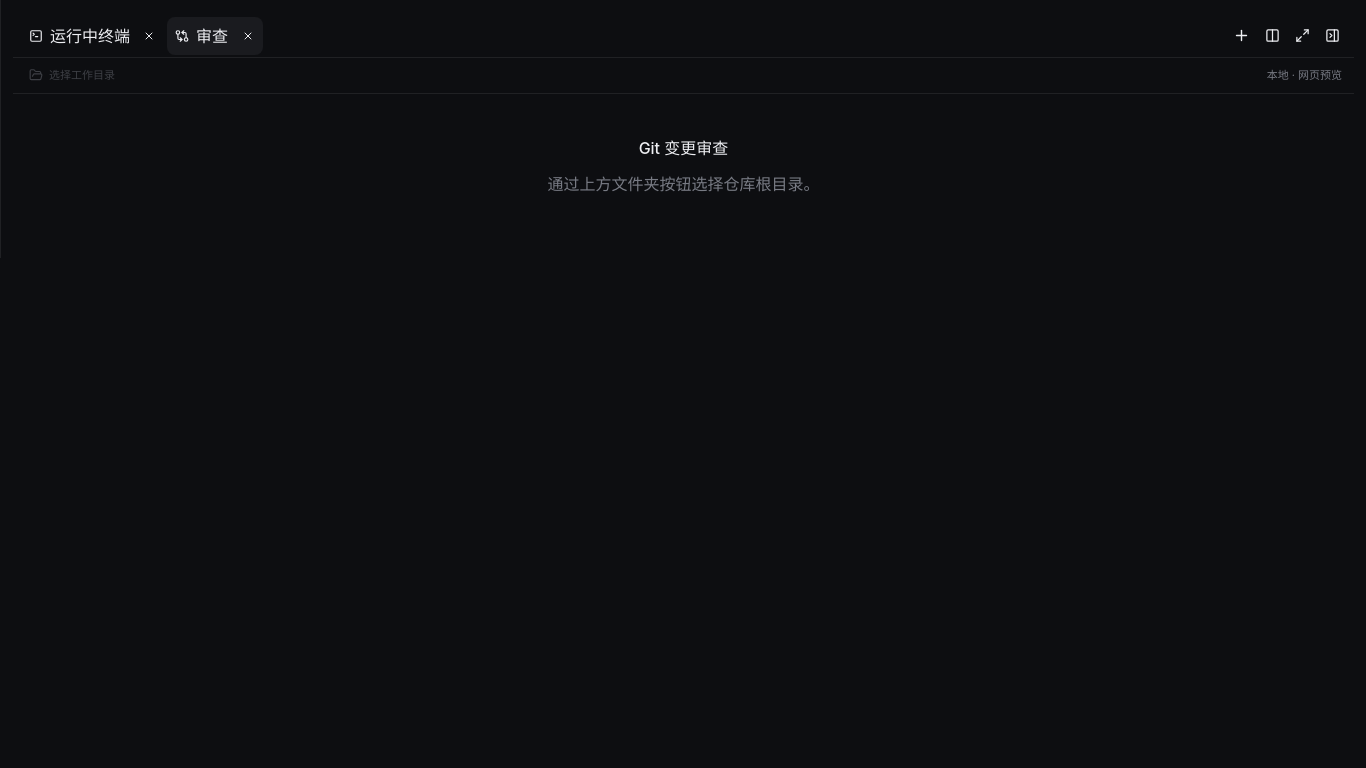
Test case: Agent right workspace › requires confirmation to stop a terminal and keeps the tab on native failure
Click the button named "关闭 运行中终端".
click(149, 36)  # box [138, 24, 160, 46]
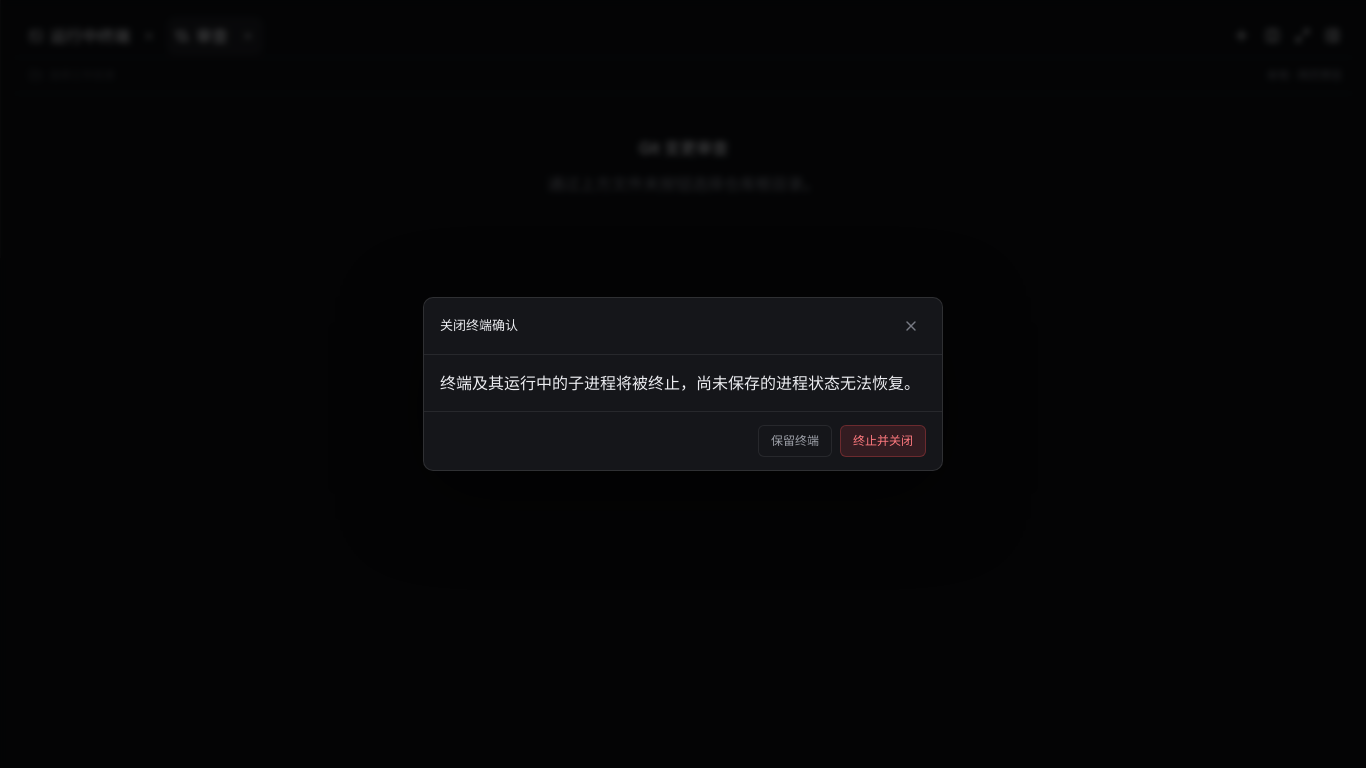
Expected: the dialog shows "关闭终端确认", [440, 317, 518, 333]
Click the button "终止并关闭".
click(883, 441)  # box [840, 425, 926, 457]
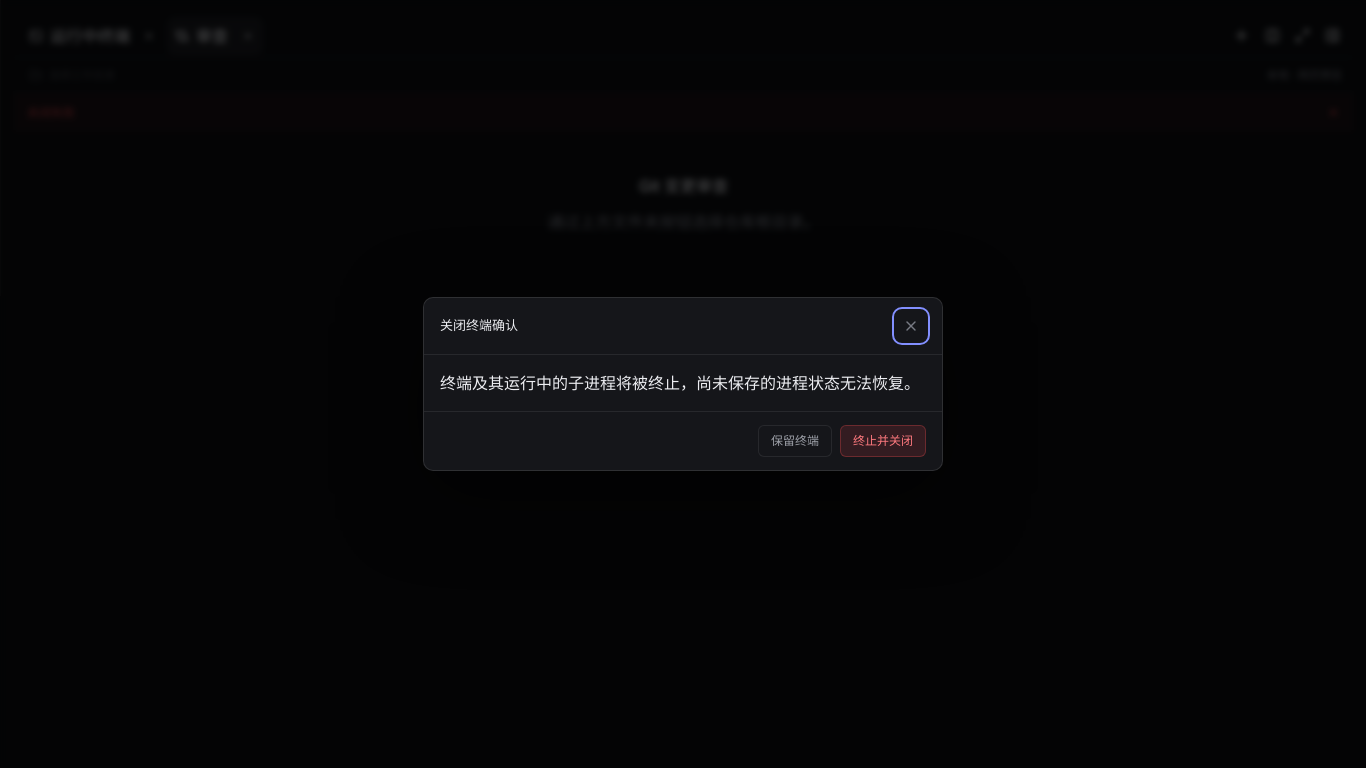
Expected: the tab "运行中终端" is shown, [21, 16, 138, 54]
Click the button "终止并关闭".
click(883, 441)  # box [840, 425, 926, 457]
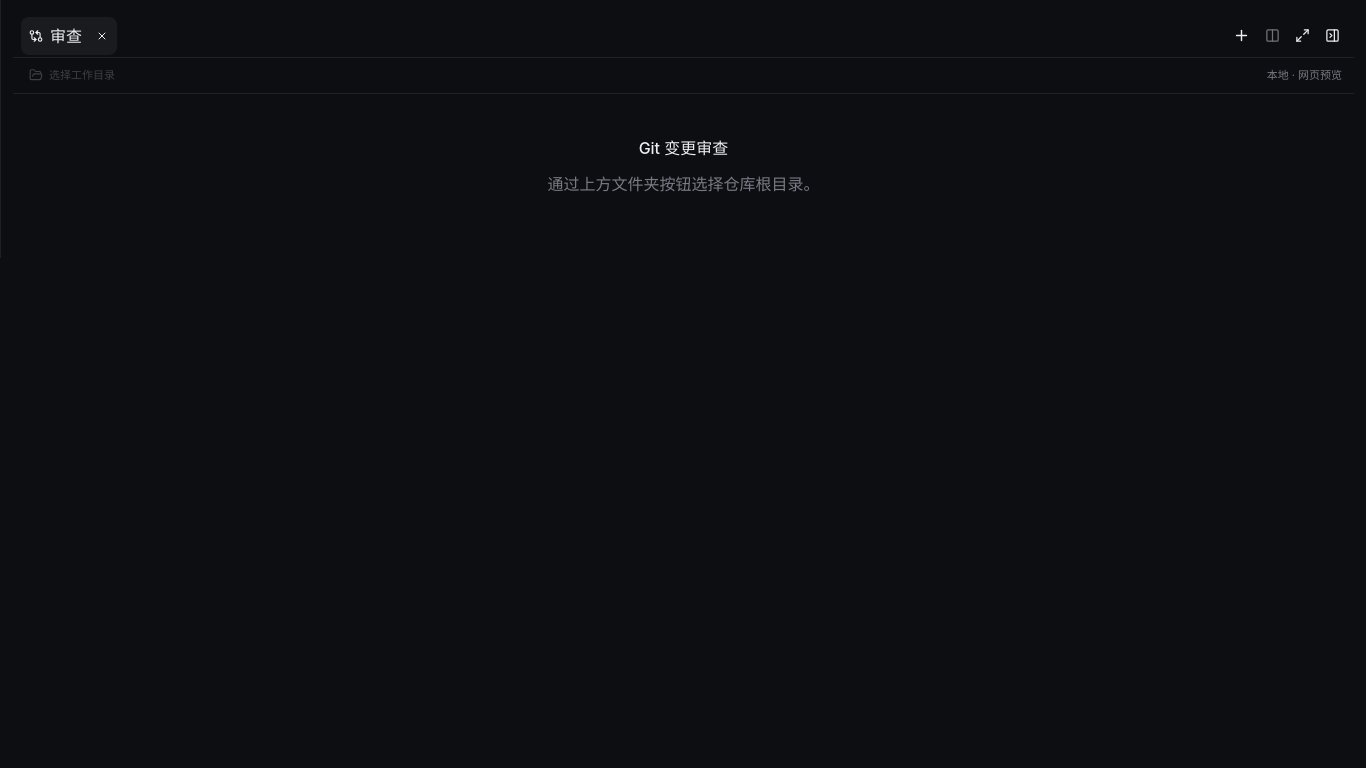
Expected: the tab "运行中终端" is gone
